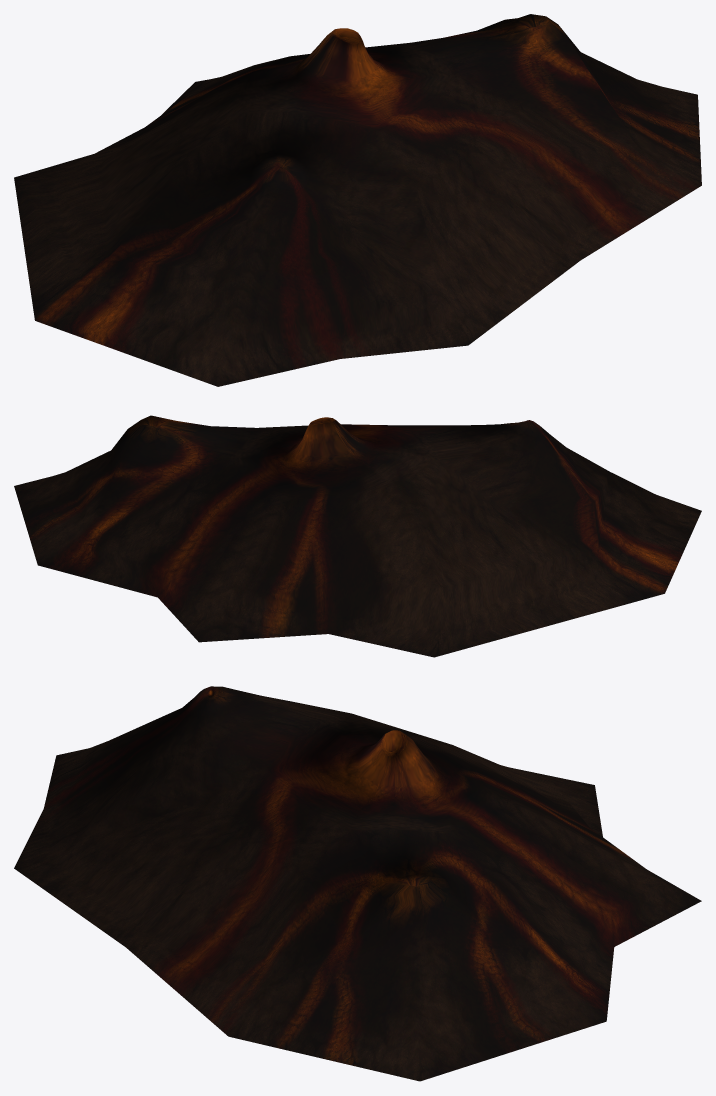
The model's file is Volcano Empty.fbx.
3 renders of one model, top to bottom at view 1: azimuth 30°, elevation 25°; view 2: azimuth 150°, elevation 25°; view 3: azimuth 270°, elevation 25°, orthographic. The views are drawn at different scales.
Parts seen in each view (by area): view 1: volcano_depleated_geo; view 2: volcano_depleated_geo; view 3: volcano_depleated_geo.
Part boxes in pixels (x1,y1,x2,y2): volcano_depleated_geo: (14, 14, 701, 386); volcano_depleated_geo: (14, 415, 701, 657); volcano_depleated_geo: (14, 686, 701, 1081).
Size of the model in its own units: 652 by 141 by 525.
